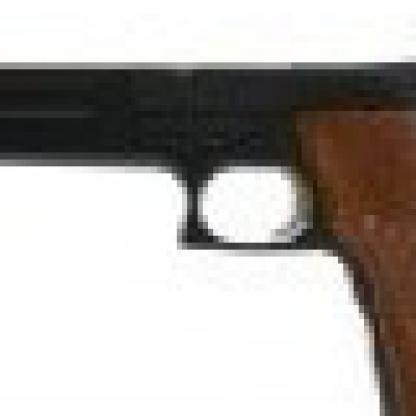gun: (0, 49, 411, 409)
